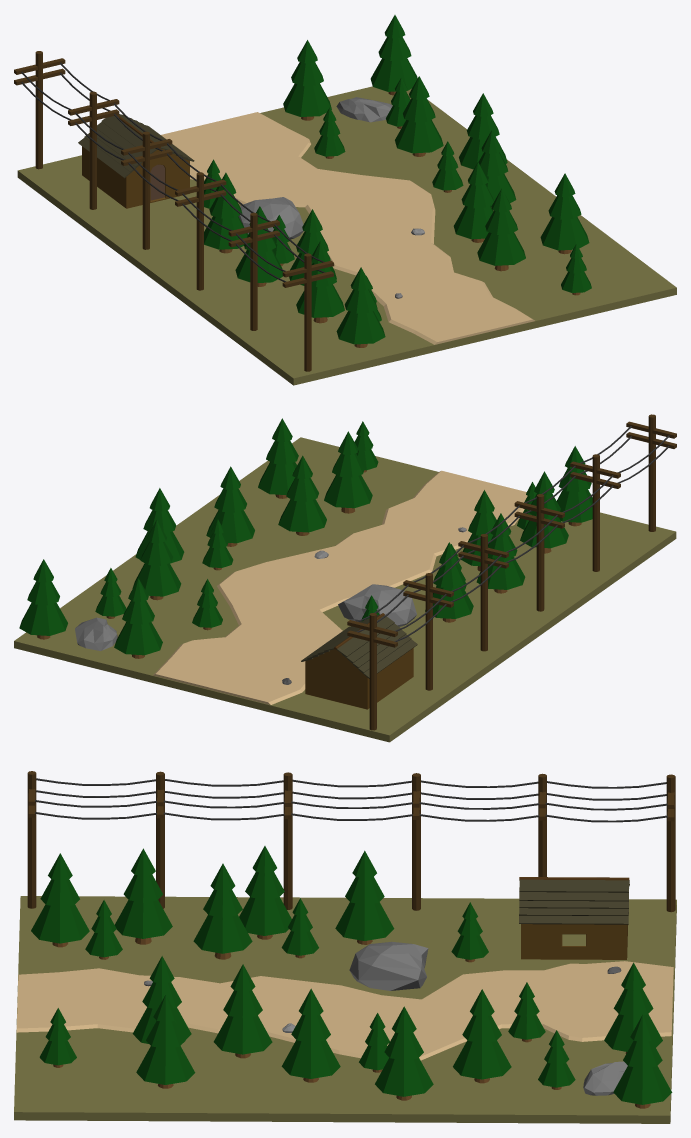
3 views of the same model, one above another, from view 1: azimuth 30°, elevation 25°; view 2: azimuth 150°, elevation 25°; view 3: azimuth 270°, elevation 25° (orthographic). The views are drawn at different scales.
Parts seen in each view (by area): view 1: chao, caminho, casa, poste, poste.002, poste.001, telha, folha.005, folha.016, folha.003, folha.014, folha.009 (+14 smaller); view 2: chao, caminho, casa, poste.001, poste.002, poste, telha, folha.014, folha.012, folha.003, folha.015, folha.016 (+19 smaller); view 3: chao, caminho, telha, casa, pedra meio, folha.002, folha.015, folha.013, folha.012, folha.005, folha.009, folha.004 (+22 smaller).
Boxes of the visible parts, x1,y1,x2,y2 form: chao: (17,86,676,385); caminho: (161,112,534,344); casa: (82,146,189,208); poste: (228,212,333,371); poste.002: (14,51,119,209); poste.001: (121,131,226,290); telha: (78,114,194,178); folha.005: (336,267,385,344); folha.016: (395,76,443,153); folha.003: (477,188,525,265); folha.014: (283,40,331,116); folha.009: (540,173,589,250); chao: (14,437,676,742); caminho: (153,470,527,704); casa: (305,648,413,709); poste.001: (458,494,564,651); poste.002: (347,573,453,730); poste: (570,414,676,571); telha: (301,615,417,678); folha.014: (114,578,162,655); folha.012: (278,455,326,532); folha.003: (324,431,372,508); folha.015: (19,559,67,635); folha.016: (132,520,181,596); chao: (14,896,676,1123); caminho: (16,961,673,1060); telha: (519,879,629,924); casa: (521,924,627,959); pedra meio: (349,941,428,990); folha.002: (193,863,252,953); folha.015: (613,1014,672,1104); folha.013: (375,1006,433,1096); folha.012: (213,964,272,1054); folha.005: (31,853,89,943); folha.009: (136,995,195,1084); folha.004: (281,988,340,1078).
Bounding box in the file's own units: 5.16 × 1.54 × 6.44.
